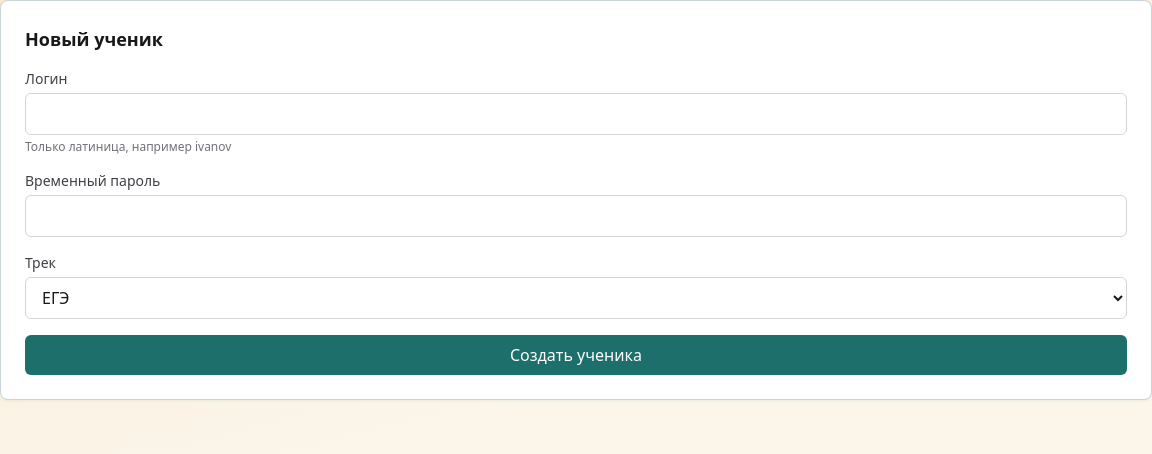
Scenario: CreateStudentForm › shows a friendly message on 409 conflict
The image size is (1152, 454).
Type "ivanov" into the field labelled "Логин" at [576, 114], box [25, 93, 1127, 135]
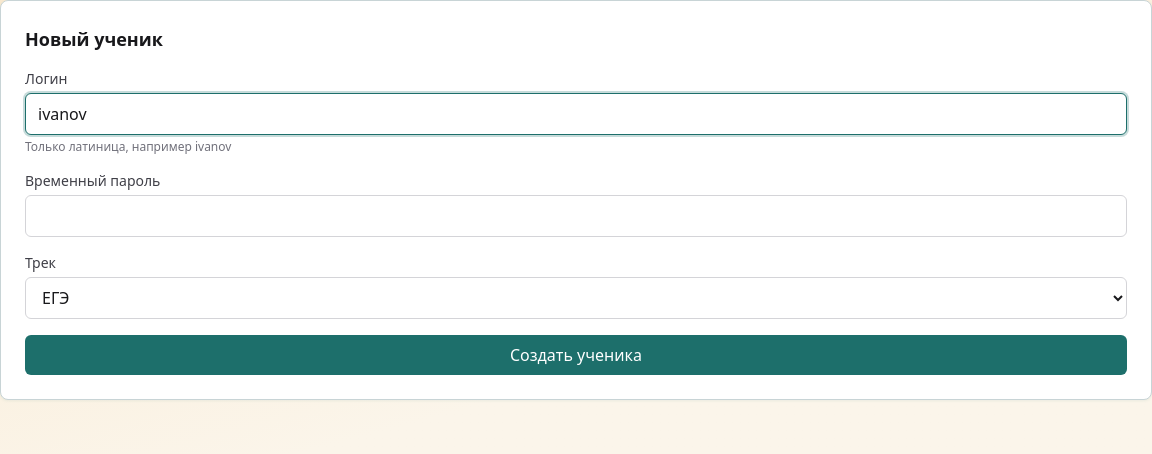
Type "secret1" into the password field labelled "Временный пароль" at [576, 216], box [25, 195, 1127, 237]
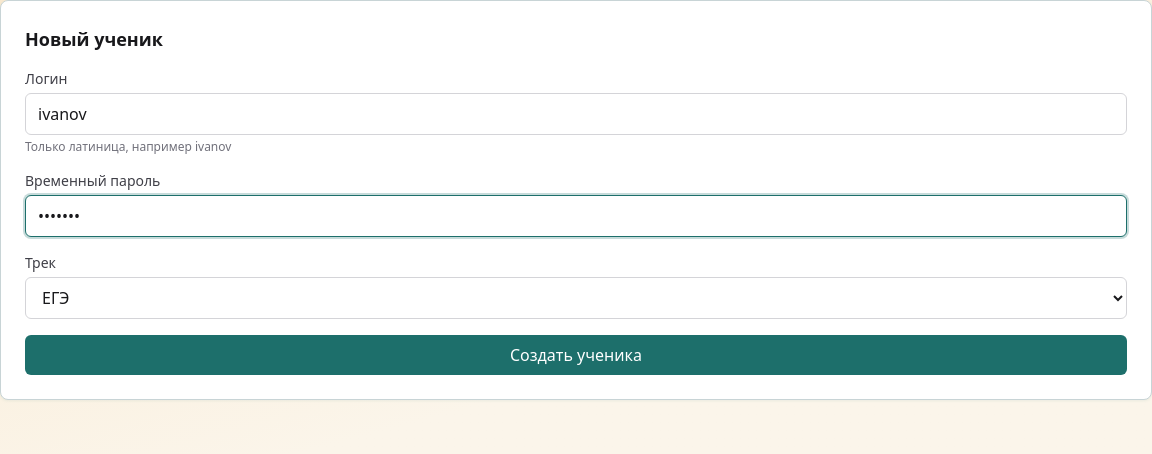
Select "ОГЭ" in the dropdown labelled "Трек" at [576, 298], box [25, 277, 1127, 319]
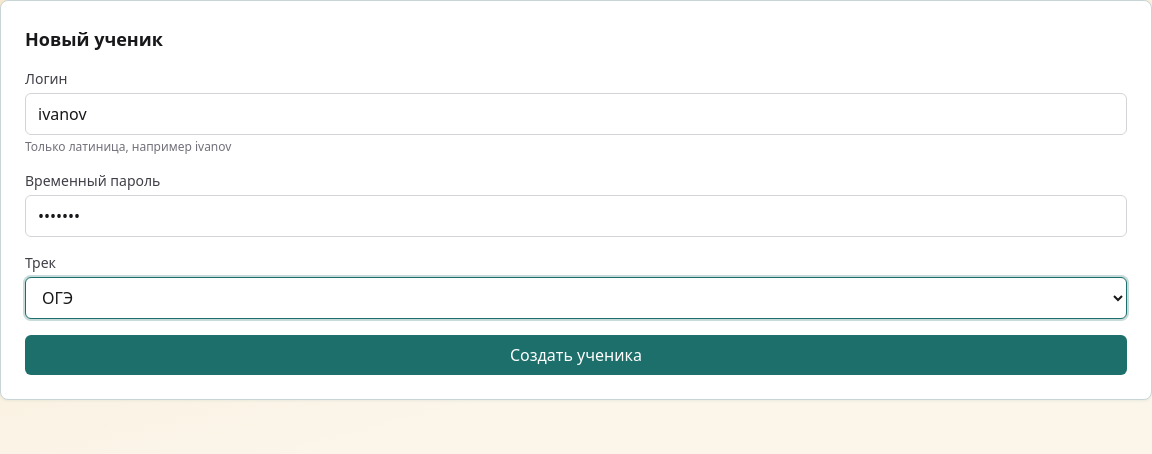
Click the button "Создать ученика" at [576, 355], box [25, 335, 1127, 375]
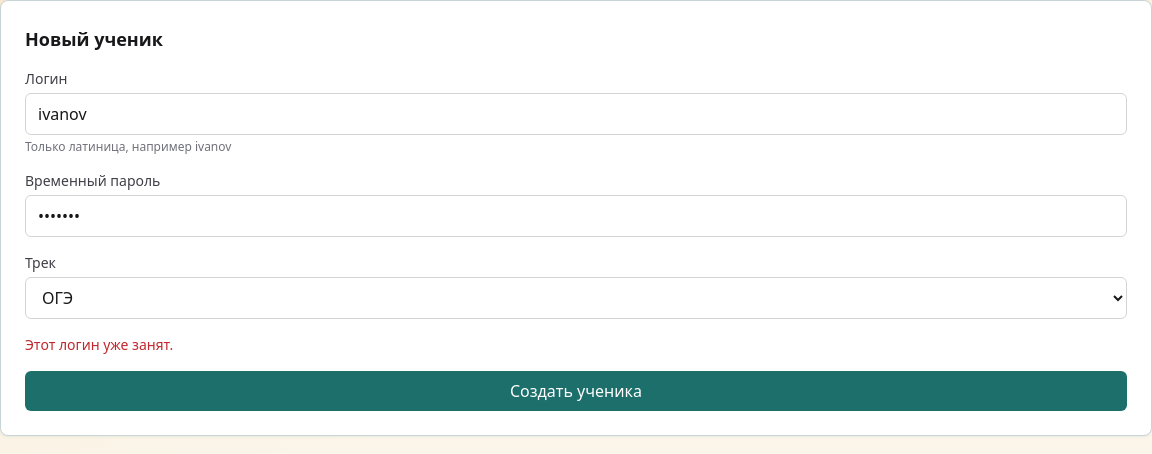
Result: the message reads "Этот логин уже занят." at [25, 335, 173, 354]
